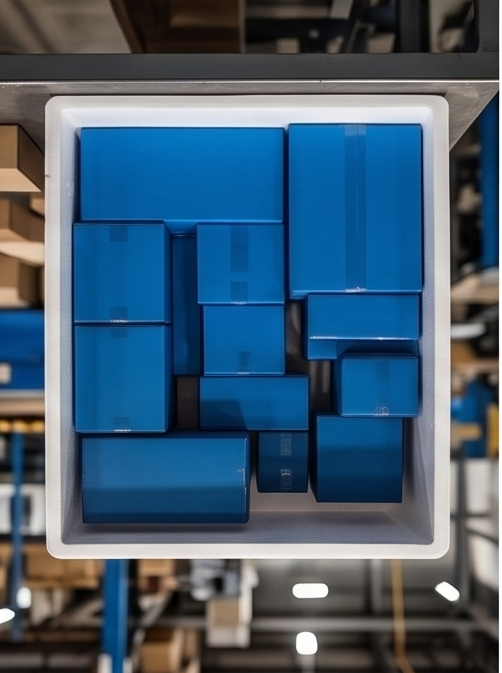blue_box: (283, 123, 422, 303), (75, 126, 286, 241), (80, 433, 247, 522), (73, 321, 173, 429), (70, 220, 172, 321), (309, 416, 402, 504), (197, 224, 283, 303), (199, 373, 308, 431), (201, 300, 281, 374), (332, 355, 420, 419), (304, 294, 419, 339), (256, 431, 308, 496), (306, 338, 417, 362), (171, 300, 201, 370), (170, 234, 195, 304)
container_box: (46, 93, 448, 559)
